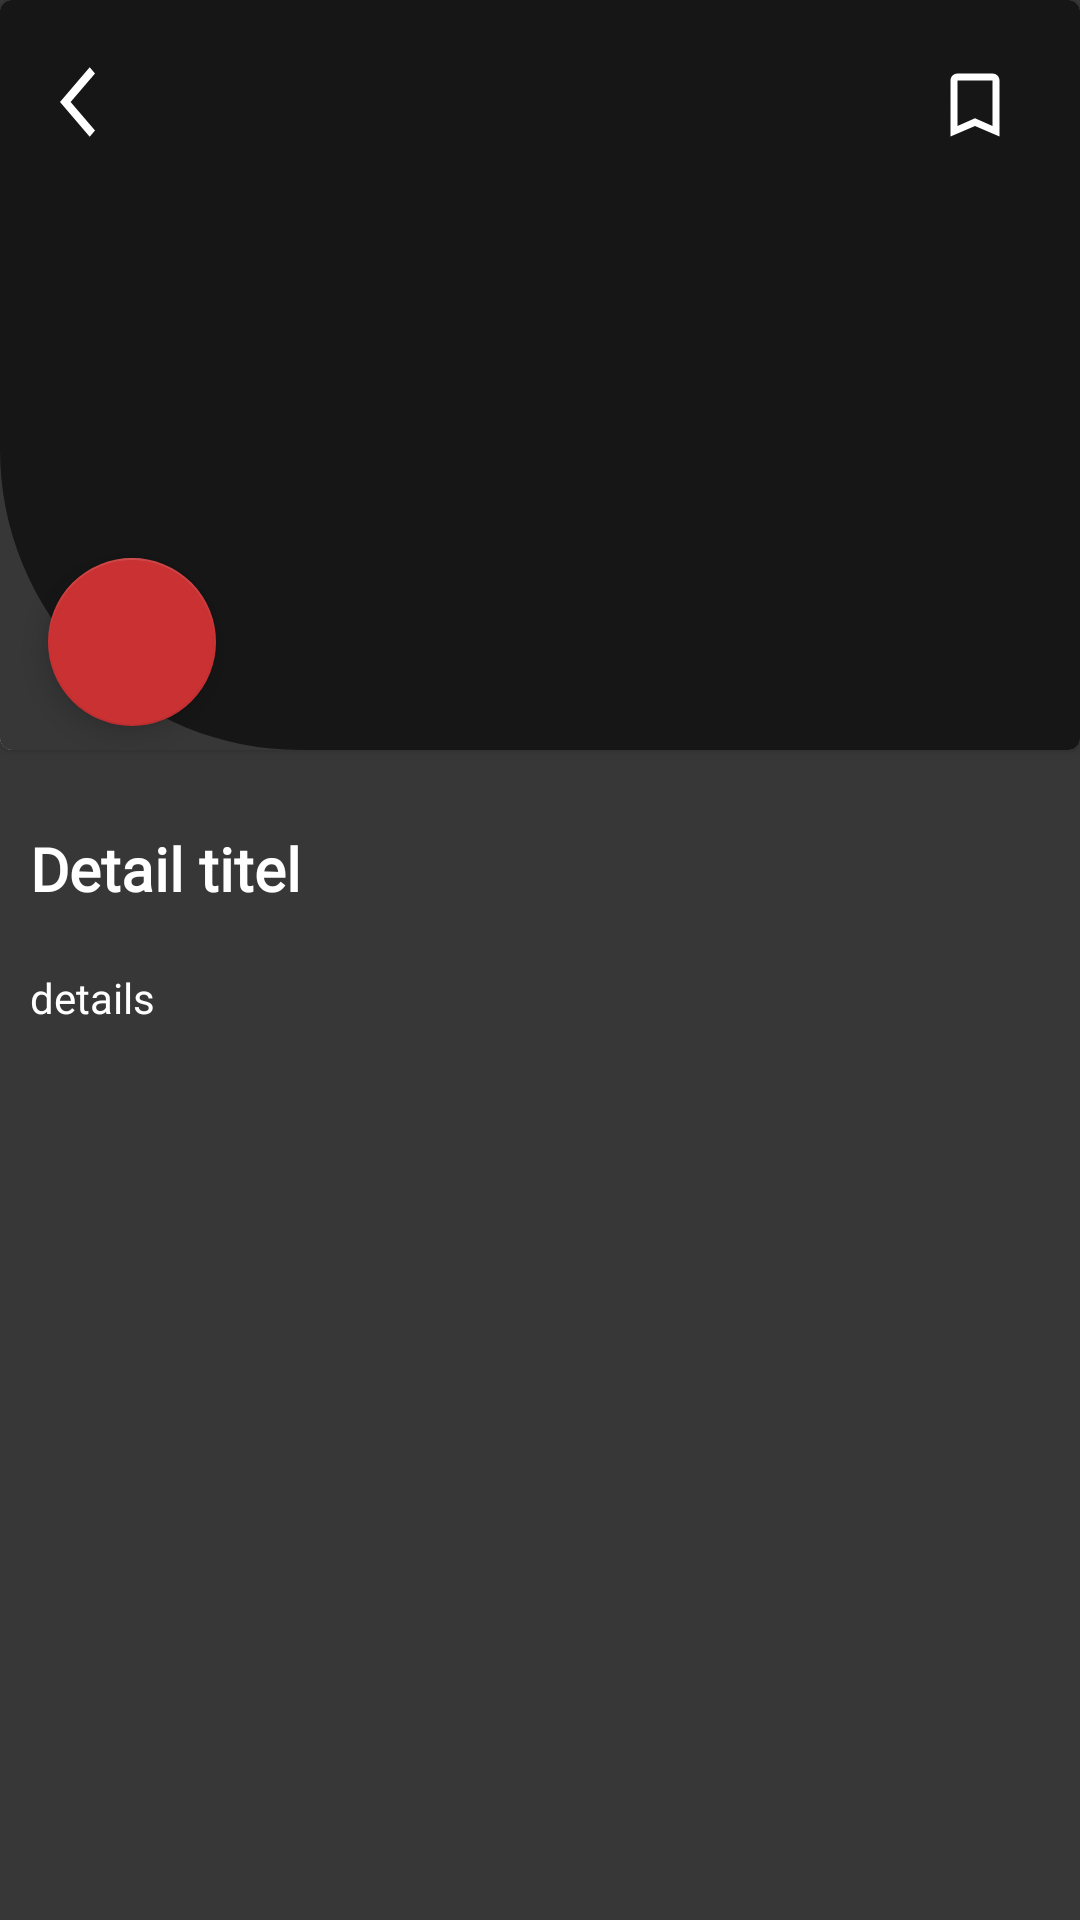

Screen size 1080 × 1920. Icon name, then its box in pixels as bbox=(x1, y1, x2, y2):
arrow back: bbox=(60, 67, 95, 137)
bookmark border: bbox=(950, 73, 1000, 137)
